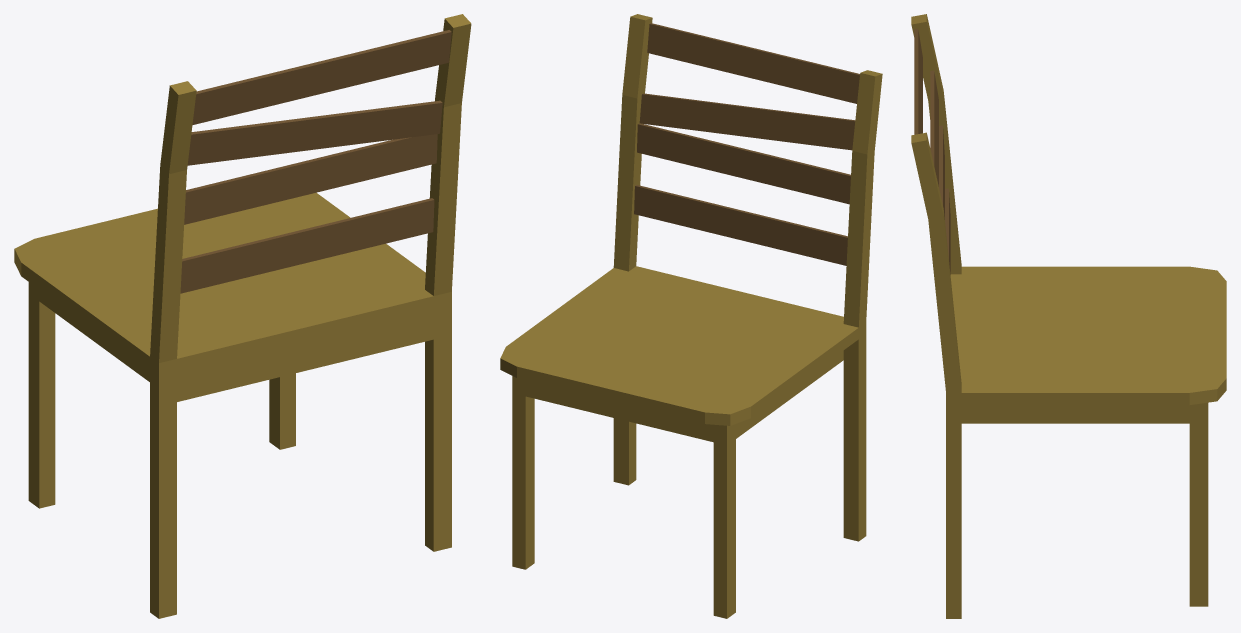
The model's file is Chair.fbx.
3 views of the same model, side by side, from view 1: azimuth 30°, elevation 25°; view 2: azimuth 150°, elevation 25°; view 3: azimuth 270°, elevation 25° (orthographic). The views are drawn at different scales.
Visible parts, largest first — view 1: pCube1, pCube2, pCube3, pCube5, pCube4; view 2: pCube1, pCube4, pCube5, pCube3, pCube2; view 3: pCube1, pCube5, pCube4, pCube3.
Part boxes in pixels (bbox=[...]): pCube1: bbox=[14, 14, 471, 618]; pCube2: bbox=[180, 198, 434, 293]; pCube3: bbox=[184, 134, 437, 224]; pCube5: bbox=[192, 30, 451, 125]; pCube4: bbox=[187, 100, 442, 165]; pCube1: bbox=[500, 14, 882, 618]; pCube4: bbox=[639, 93, 855, 150]; pCube5: bbox=[647, 23, 859, 103]; pCube3: bbox=[637, 123, 850, 204]; pCube2: bbox=[634, 185, 847, 265]; pCube1: bbox=[911, 14, 1226, 618]; pCube5: bbox=[914, 28, 922, 134]; pCube4: bbox=[930, 70, 938, 186]; pCube3: bbox=[939, 125, 944, 219].
Size of the model in its own units: 1.14 by 2.01 by 1.2.
